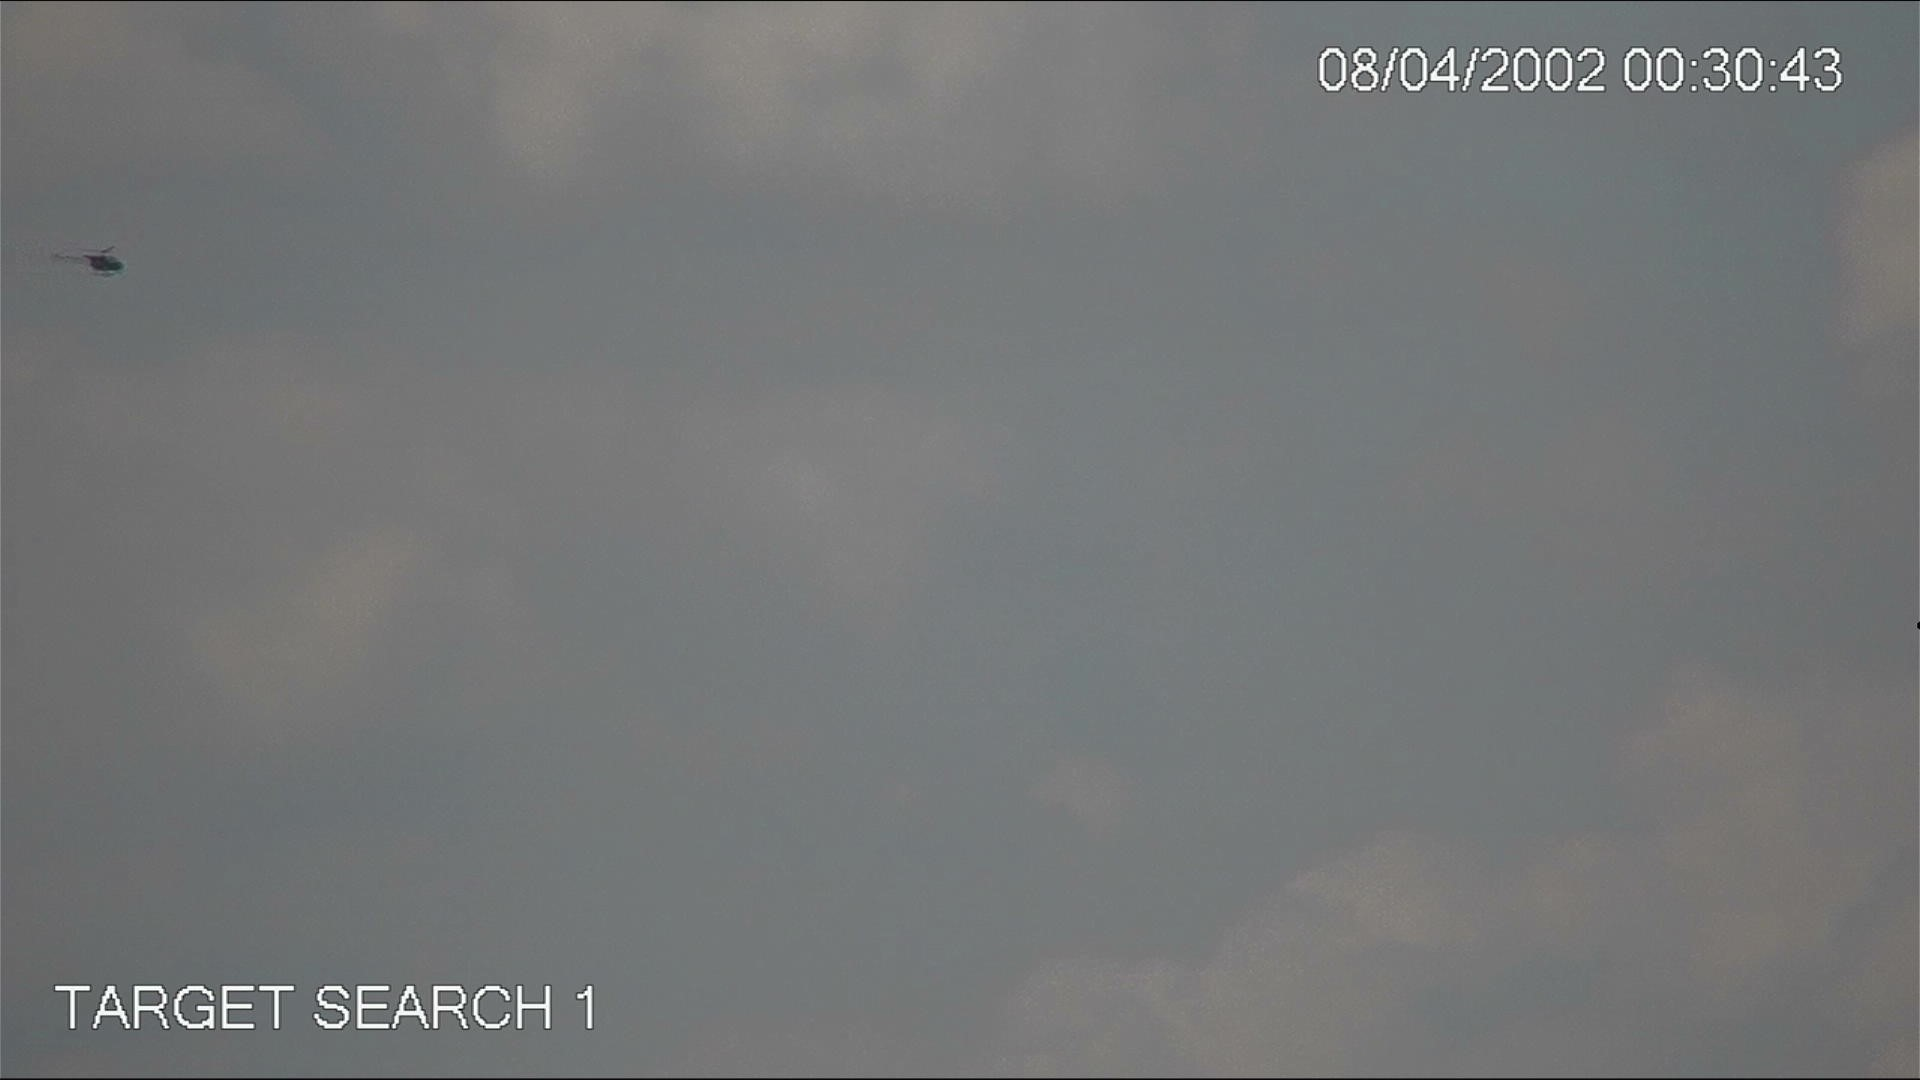SU_30: (47, 243, 131, 284)
